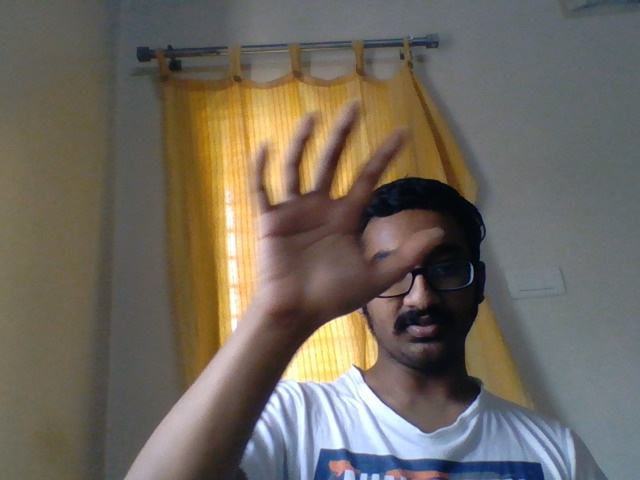no: (208, 90, 439, 348)
